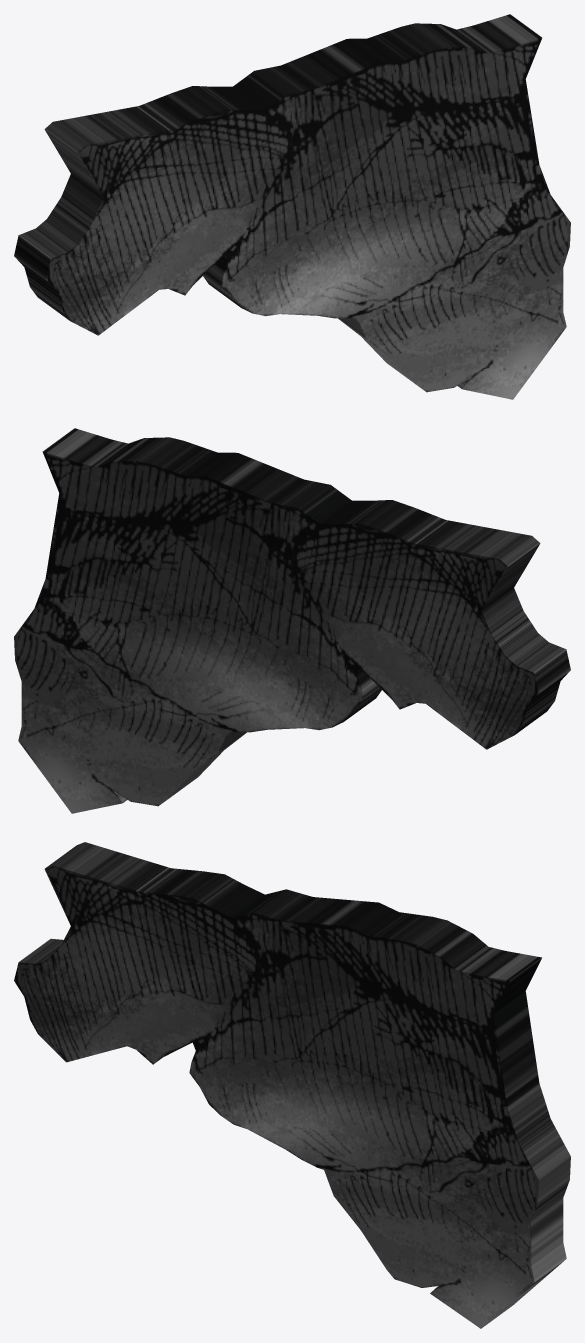
Rendered from Rock02.fbx.
The picture shows the model from 3 angles, top to bottom: view 1: azimuth 30°, elevation 25°; view 2: azimuth 150°, elevation 25°; view 3: azimuth 330°, elevation 25°; orthographic projection.
Parts seen in each view (by area): view 1: rocks; view 2: rocks; view 3: rocks.
Part boxes in pixels (left/top/right/bottom): rocks: left=14, top=14, right=570, bottom=399; rocks: left=14, top=428, right=570, bottom=813; rocks: left=14, top=842, right=570, bottom=1328.
Bounding box in the file's own units: 47.14 × 31.77 × 5.
Materials: 1 (1 with a texture image).
